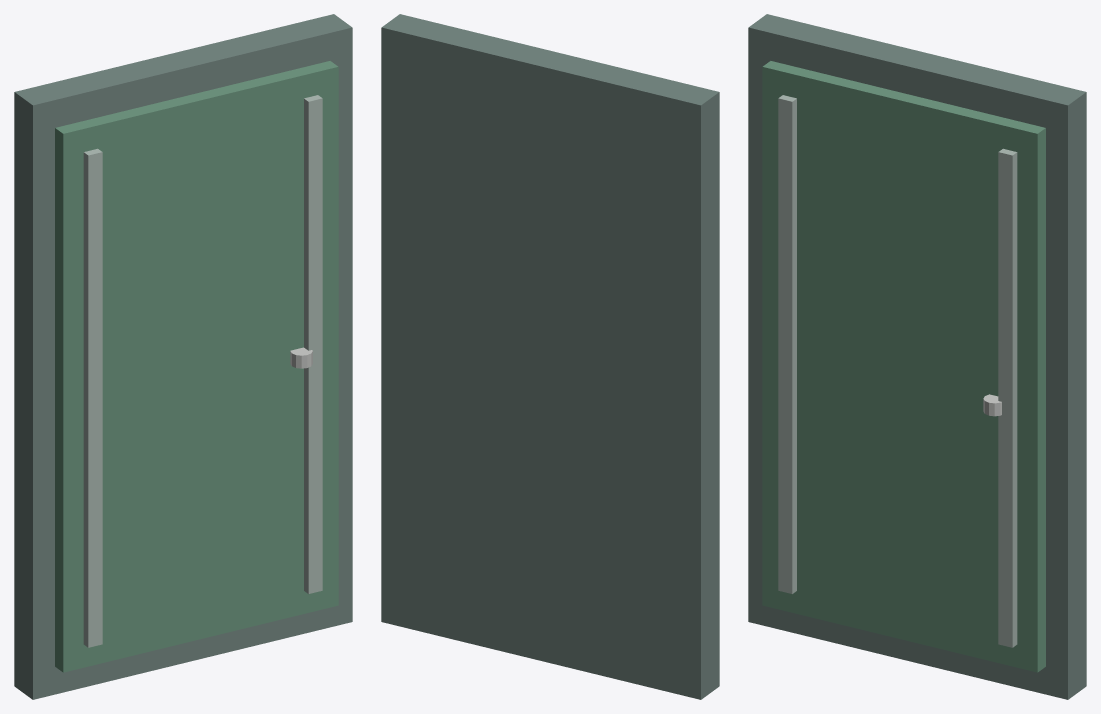
Rendered from exit_door_lod1.glb.
3 views of the same model, side by side, from view 1: azimuth 30°, elevation 25°; view 2: azimuth 150°, elevation 25°; view 3: azimuth 330°, elevation 25° (orthographic).
Parts seen in each view (by area): view 1: part_1, part_0, part_3, part_4; view 2: part_0; view 3: part_1, part_0, part_4, part_3.
Boxes of the visible parts, box(x1,y1,x2,y2) form: part_1: box(55, 61, 338, 672); part_0: box(14, 14, 352, 699); part_3: box(83, 148, 102, 647); part_4: box(304, 95, 322, 593); part_0: box(381, 14, 719, 699); part_1: box(762, 61, 1045, 672); part_0: box(748, 14, 1086, 699); part_4: box(998, 148, 1017, 647); part_3: box(778, 95, 796, 593).
Bounding box in the file's own units: 1.8 × 3.2 × 0.345.
